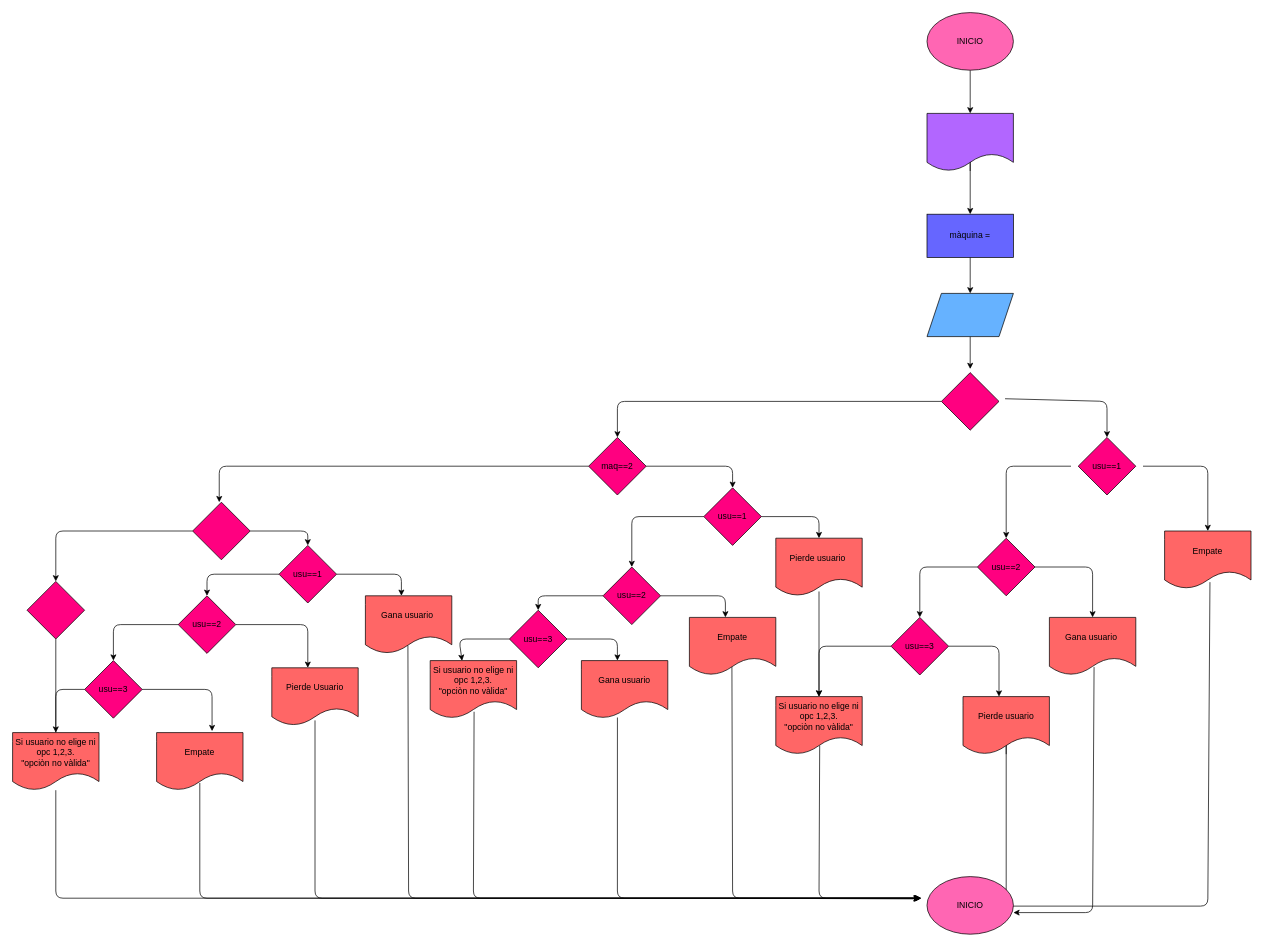
Image size: 1264x947. Some labels were removed from this diagram. Here are the shapes that lost their labels. From the top down, the box of each, then its label:
(926, 113, 1013, 171): 1== Piedra 2==Papel 3== Tijera
(926, 293, 1013, 337): Usuario
(941, 372, 999, 430): maq==1
(192, 501, 250, 560): maq==3
(26, 581, 85, 639): Opciòn no vàlida
